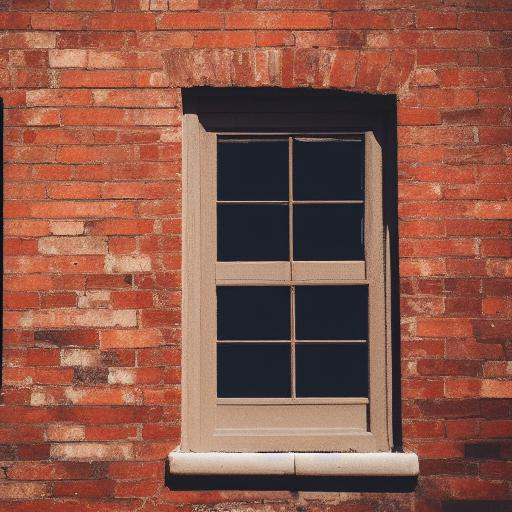Window: (169, 47, 422, 491)
